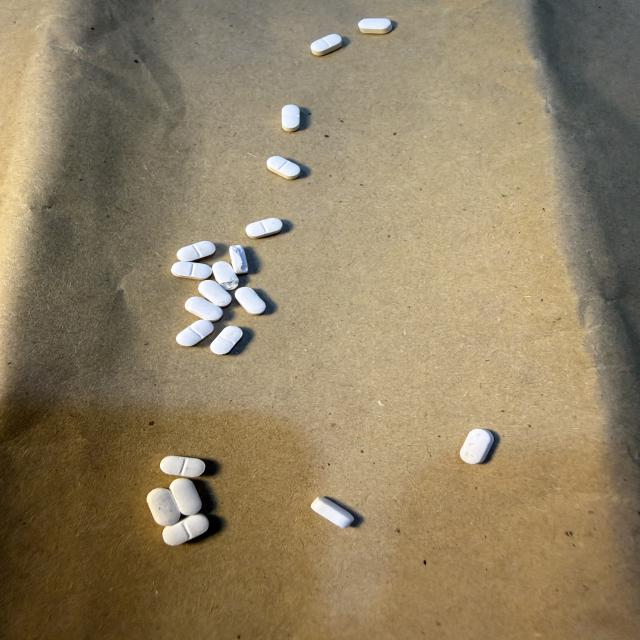pill: (162, 513, 209, 546), (311, 497, 354, 528), (147, 488, 180, 526), (460, 429, 494, 464), (170, 478, 201, 515), (176, 320, 213, 346), (160, 456, 205, 477), (198, 280, 231, 307), (185, 297, 222, 321), (211, 326, 242, 354), (236, 287, 265, 315), (177, 241, 215, 261), (267, 156, 300, 179), (213, 261, 238, 290), (246, 218, 282, 238), (311, 34, 342, 56), (172, 262, 211, 279), (229, 245, 248, 274), (358, 18, 392, 33), (282, 105, 300, 131)
